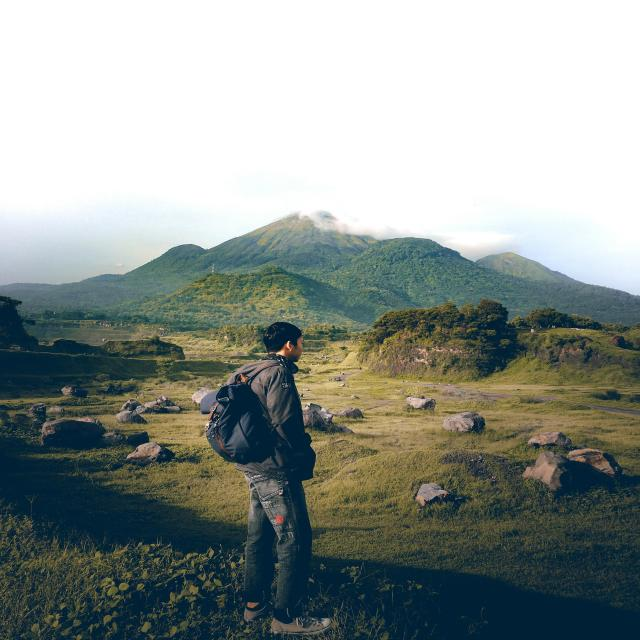stand: (221, 305, 340, 639)
